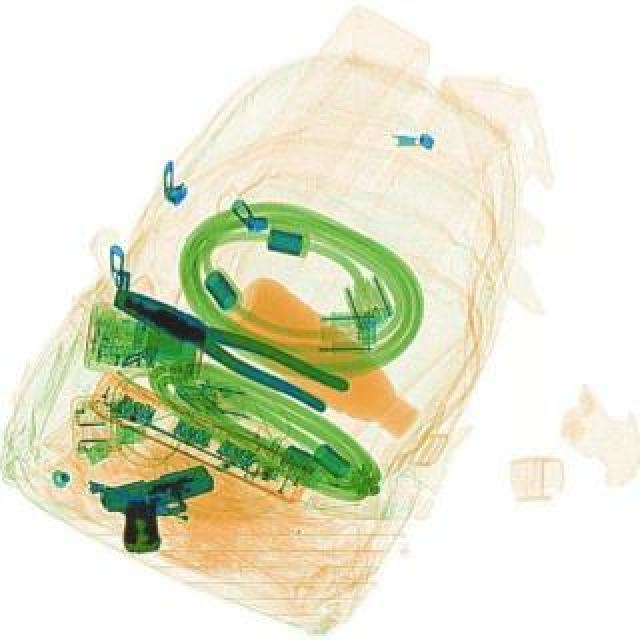gun: (94, 458, 230, 558)
wrench: (104, 272, 350, 416)
